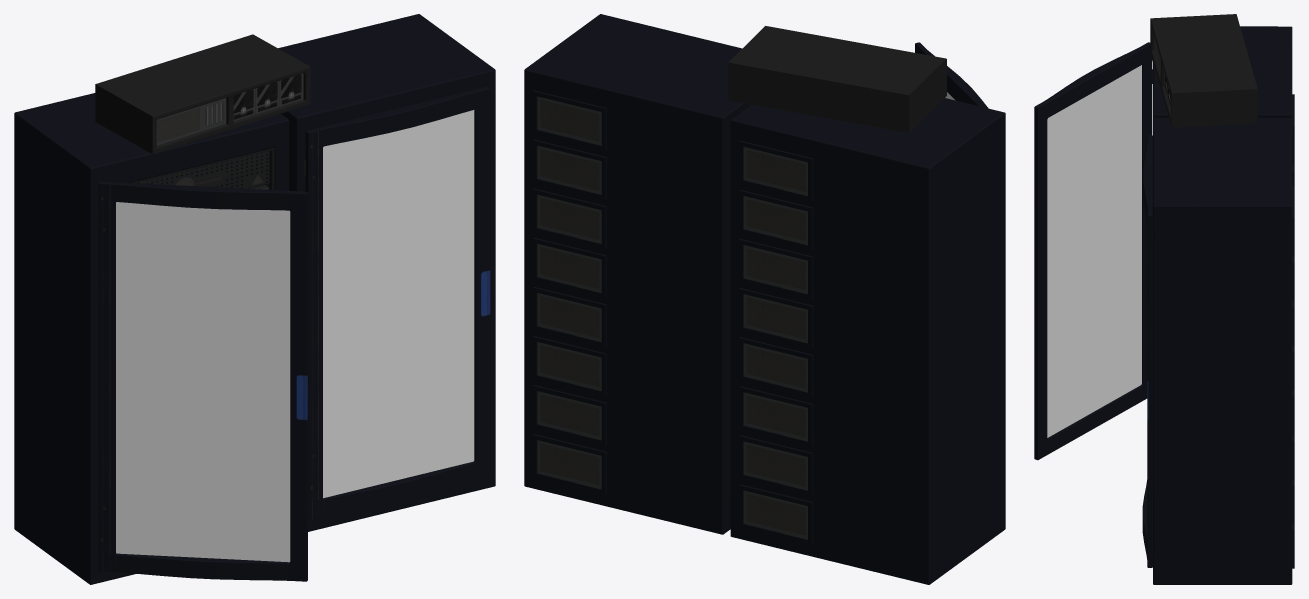
Rendered from server-rack.fbx.
3 renders of one model, left to right at view 1: azimuth 30°, elevation 25°; view 2: azimuth 150°, elevation 25°; view 3: azimuth 270°, elevation 25°, orthographic. The views are drawn at different scales.
Parts seen in each view (by area): view 1: Door.002, Door.003, Server_2, Door.001, Server_1, Door, Servers.001; view 2: Server_2, Server_1, Servers.001, Door.001; view 3: Server_1, Door.002, Door.001, Servers.001, Server_2, Door.
Part boxes in pixels (<box>): Door.002: <box>116,202,290,562</box>; Door.003: <box>323,110,474,498</box>; Server_2: <box>14,93,289,584</box>; Door.001: <box>98,181,307,581</box>; Server_1: <box>278,14,495,531</box>; Door: <box>305,86,490,520</box>; Servers.001: <box>95,34,310,189</box>; Server_2: <box>730,98,1005,584</box>; Server_1: <box>524,14,750,534</box>; Servers.001: <box>728,26,946,132</box>; Door.001: <box>915,42,988,108</box>; Server_1: <box>1153,118,1294,584</box>; Door.002: <box>1047,65,1141,437</box>; Door.001: <box>1034,42,1152,460</box>; Servers.001: <box>1150,14,1257,127</box>; Server_2: <box>1152,26,1294,185</box>; Door: <box>1142,135,1152,567</box>.
Bounding box in the file's own units: 203 × 218 × 124.
